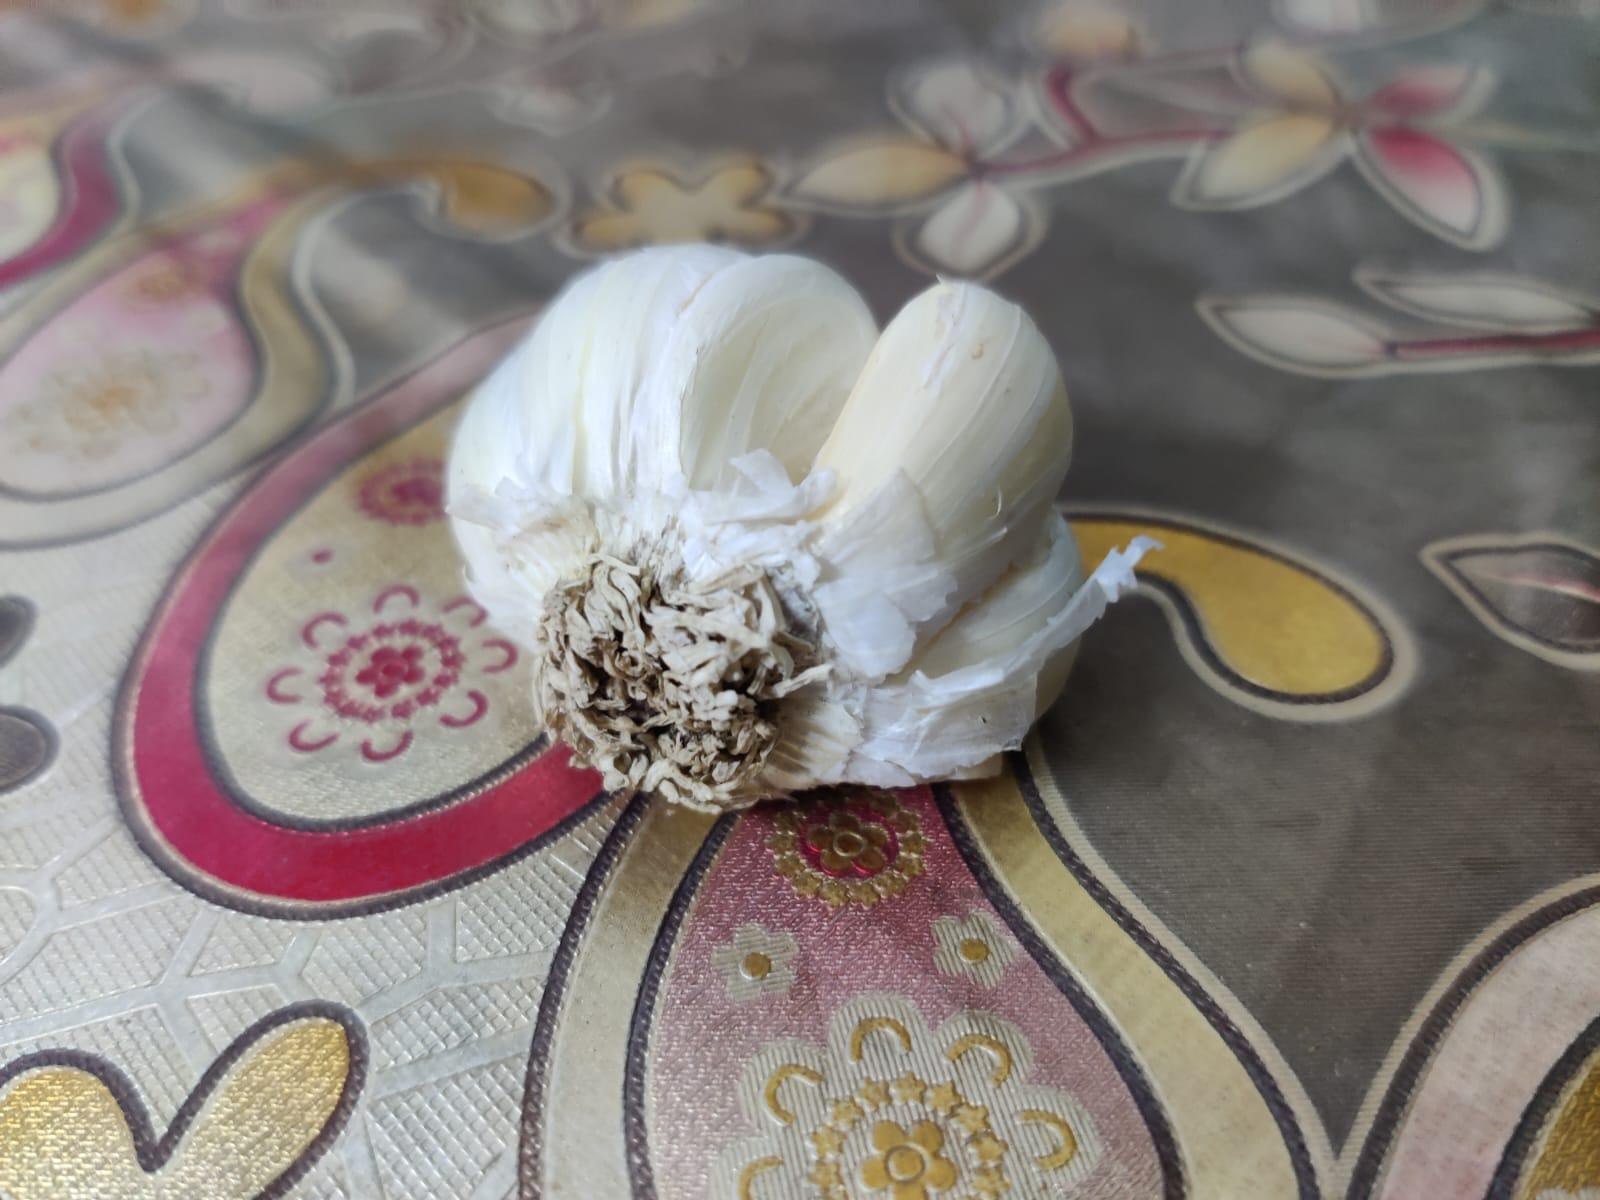non-mango: (450, 245, 1117, 788)
